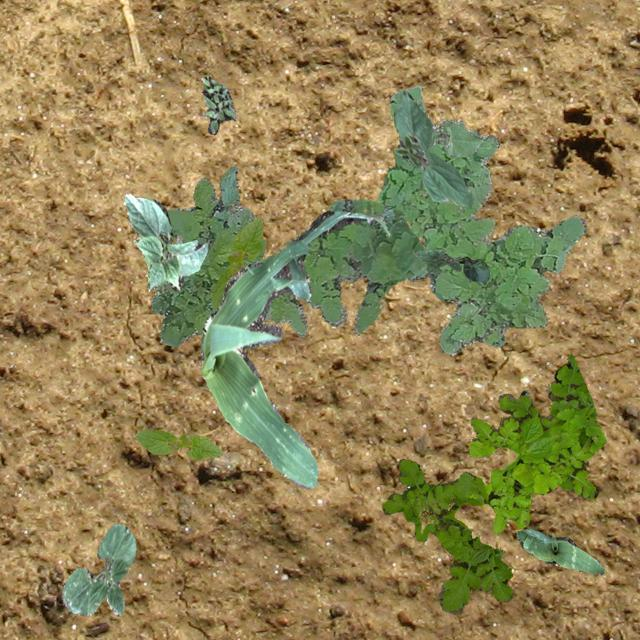crop: (198, 210, 388, 488), (392, 90, 472, 206), (124, 192, 208, 290), (60, 522, 134, 616), (210, 216, 262, 312), (514, 528, 604, 574), (412, 248, 488, 284), (134, 428, 222, 458), (410, 122, 482, 156)
weed: (377, 84, 586, 353), (464, 352, 604, 532), (262, 198, 423, 336), (150, 166, 266, 346), (380, 458, 512, 612), (200, 75, 236, 134), (174, 234, 183, 243)
